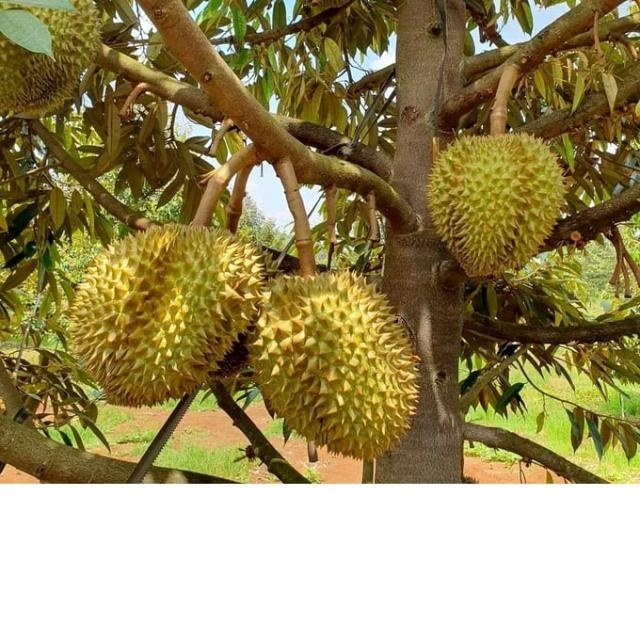sau_rieng: (68, 220, 259, 407), (249, 274, 416, 460), (430, 133, 559, 276), (3, 1, 102, 120)
